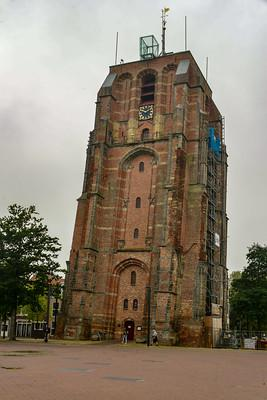building: (47, 40, 230, 351)
